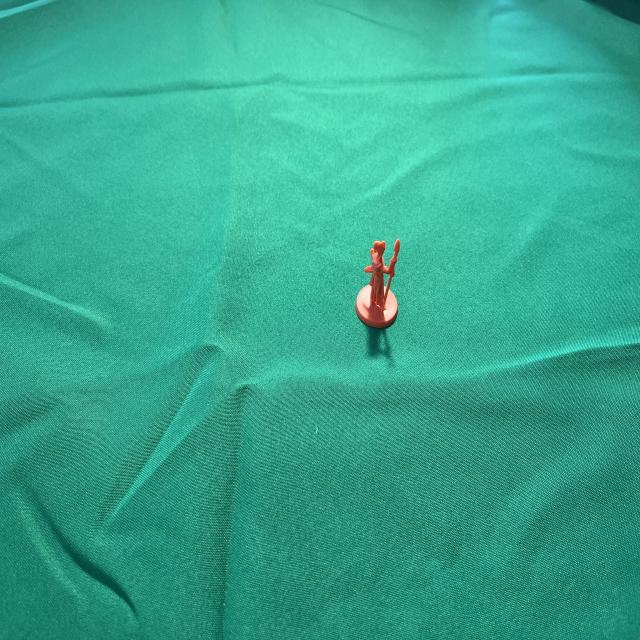amon_follower: (355, 240, 400, 328)
